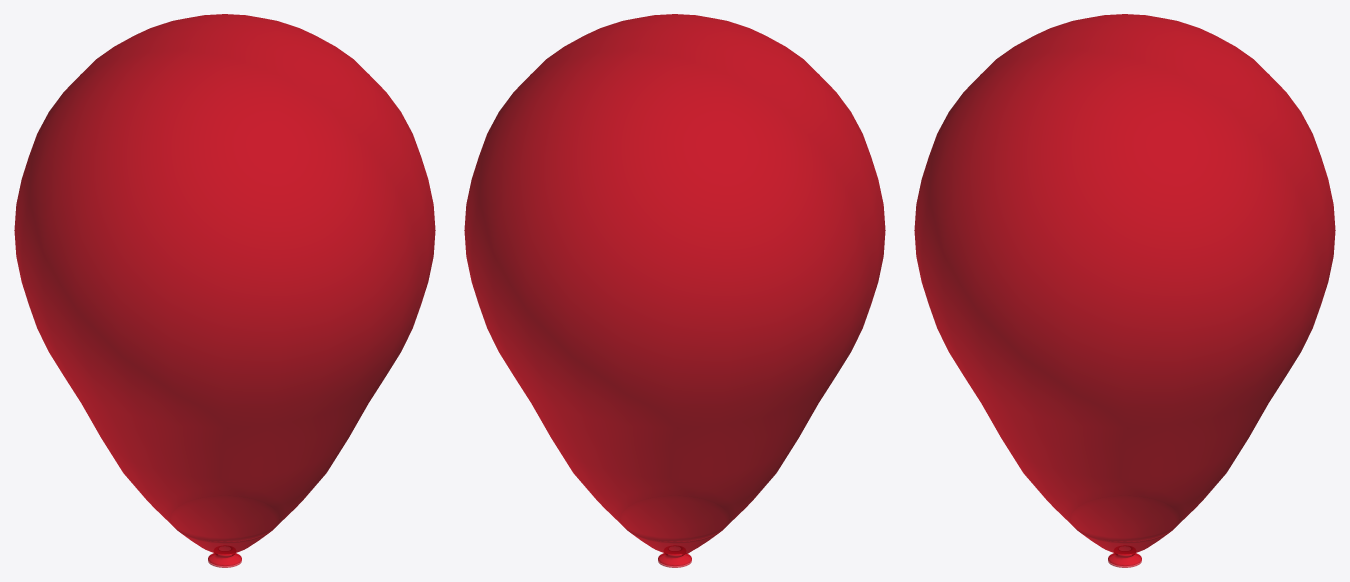
The model's file is annaballoon.fbx.
The picture shows the model from 3 angles, left to right: view 1: azimuth 30°, elevation 25°; view 2: azimuth 150°, elevation 25°; view 3: azimuth 270°, elevation 25°; orthographic projection.
Parts seen in each view (by area): view 1: Sphere; view 2: Sphere; view 3: Sphere.
Part boxes in pixels (x1=…): Sphere: x1=14, y1=14, x2=435, y2=567; Sphere: x1=464, y1=14, x2=885, y2=567; Sphere: x1=914, y1=14, x2=1335, y2=567.
Size of the model in its own units: 1.92 by 2.65 by 1.92.
